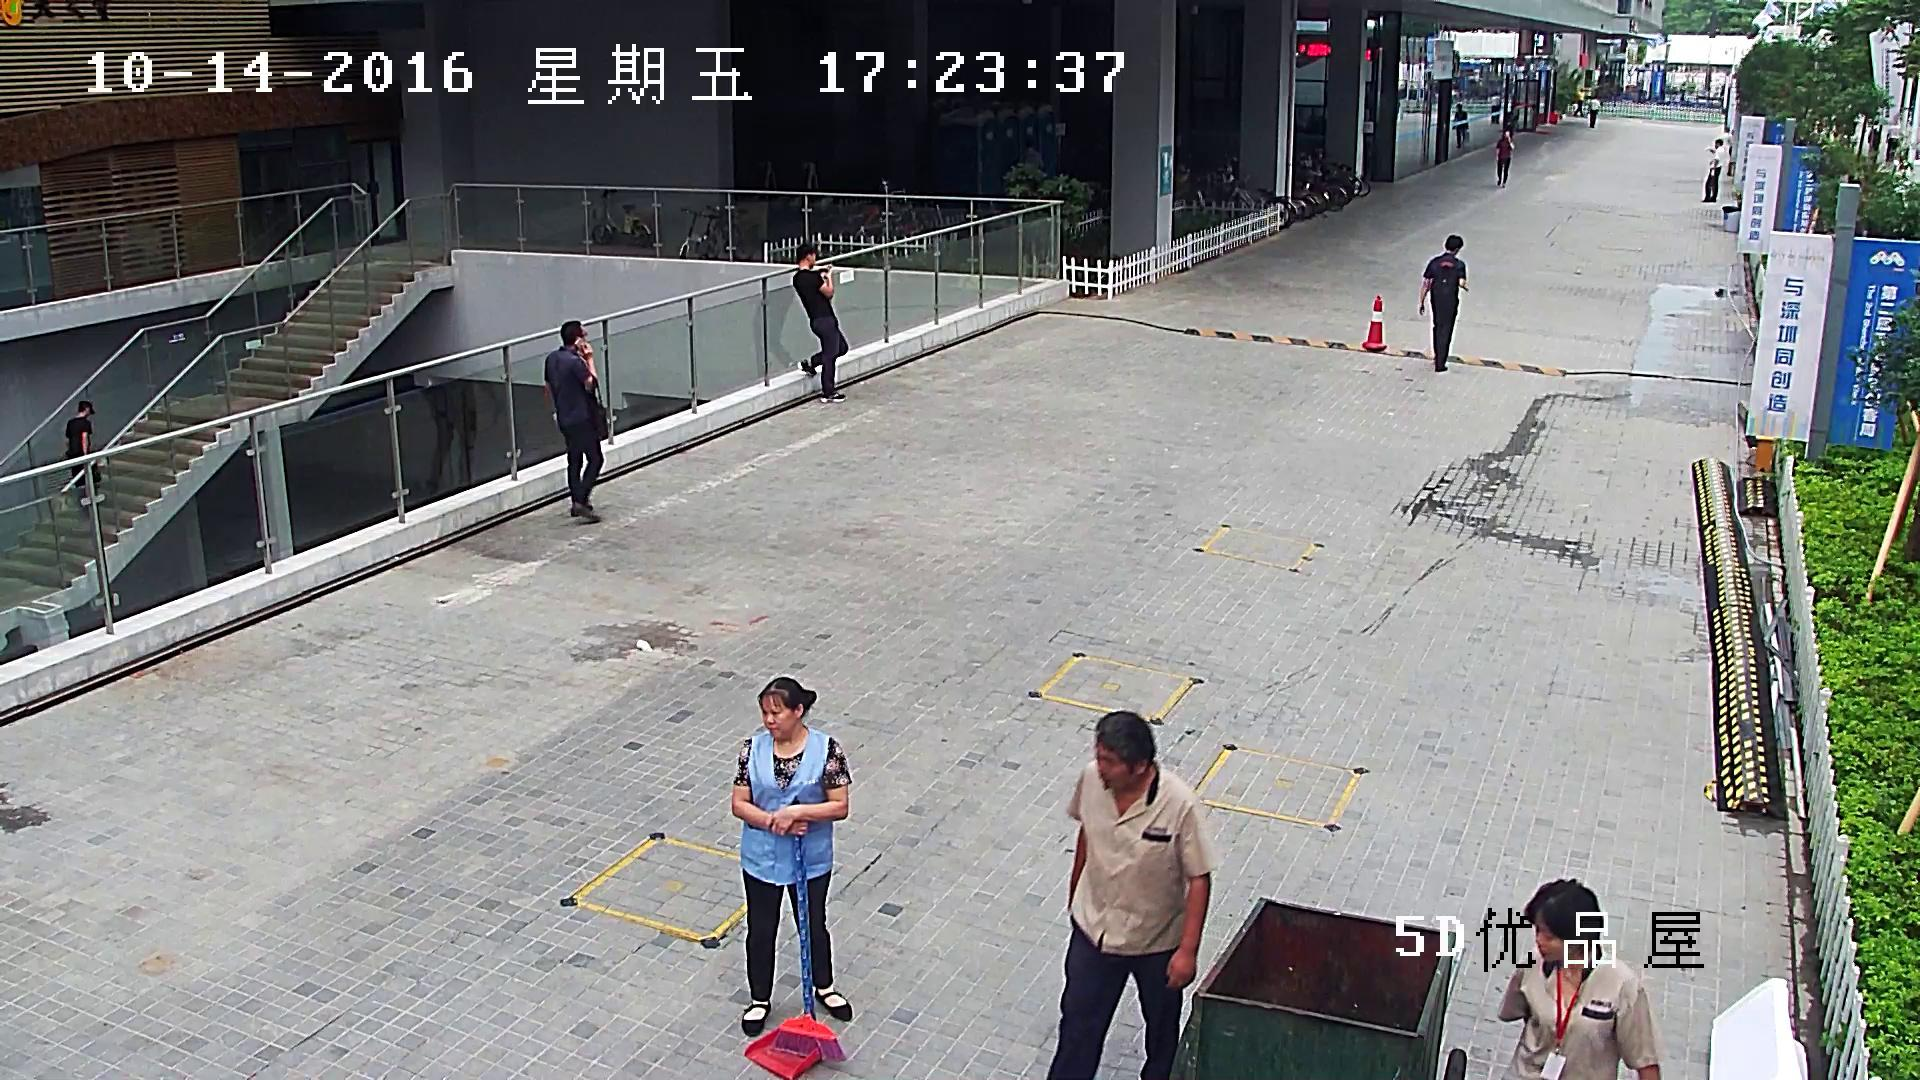person: (1043, 709, 1212, 1080), (728, 673, 852, 1080), (728, 672, 853, 1035), (1497, 874, 1671, 1080), (542, 319, 613, 522), (786, 241, 851, 404), (412, 357, 479, 492), (1418, 233, 1469, 371), (54, 399, 106, 505), (751, 287, 795, 376), (1700, 138, 1723, 202), (1494, 128, 1515, 189), (1449, 102, 1472, 148), (1885, 116, 1904, 162), (1866, 120, 1882, 164), (1570, 86, 1586, 117), (1587, 93, 1601, 128)
